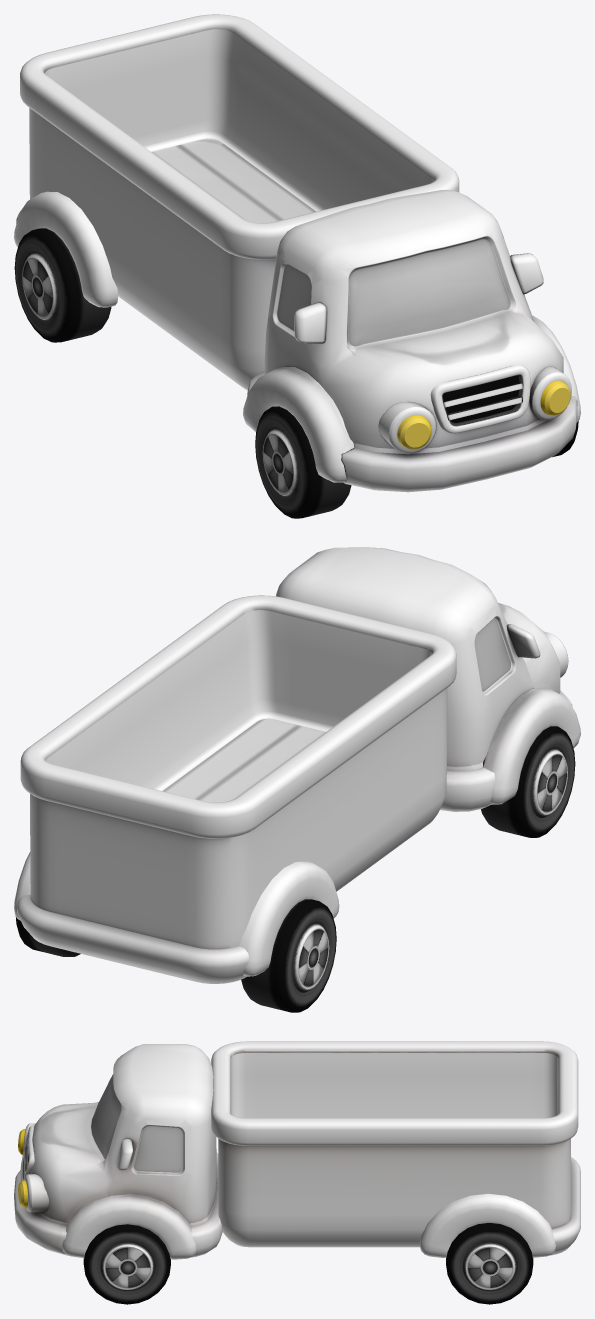
Rendered from bus_long_inflatable.glb.
3 renders of one model, top to bottom at view 1: azimuth 30°, elevation 25°; view 2: azimuth 150°, elevation 25°; view 3: azimuth 270°, elevation 25°, orthographic. The views are drawn at different scales.
Visible parts, largest first — view 1: CargoBed, Cab, WheelsRear, WheelsFront; view 2: CargoBed, Cab, WheelsRear, WheelsFront; view 3: CargoBed, Cab, WheelsRear, WheelsFront.
Part boxes in pixels (x1,y1,x2,y2): CargoBed: [14, 14, 459, 390]; Cab: [243, 190, 580, 492]; WheelsRear: [14, 228, 111, 342]; WheelsFront: [255, 406, 578, 518]; CargoBed: [14, 595, 456, 983]; Cab: [276, 547, 580, 811]; WheelsRear: [15, 899, 336, 1012]; WheelsFront: [481, 726, 575, 837]; CargoBed: [211, 1041, 580, 1257]; Cab: [14, 1044, 222, 1259]; WheelsRear: [446, 1223, 533, 1304]; WheelsFront: [83, 1224, 170, 1304].
Bounding box in the file's own units: 1.29 × 1.11 × 3.02.
Materials: 4 (4 with a texture image).
